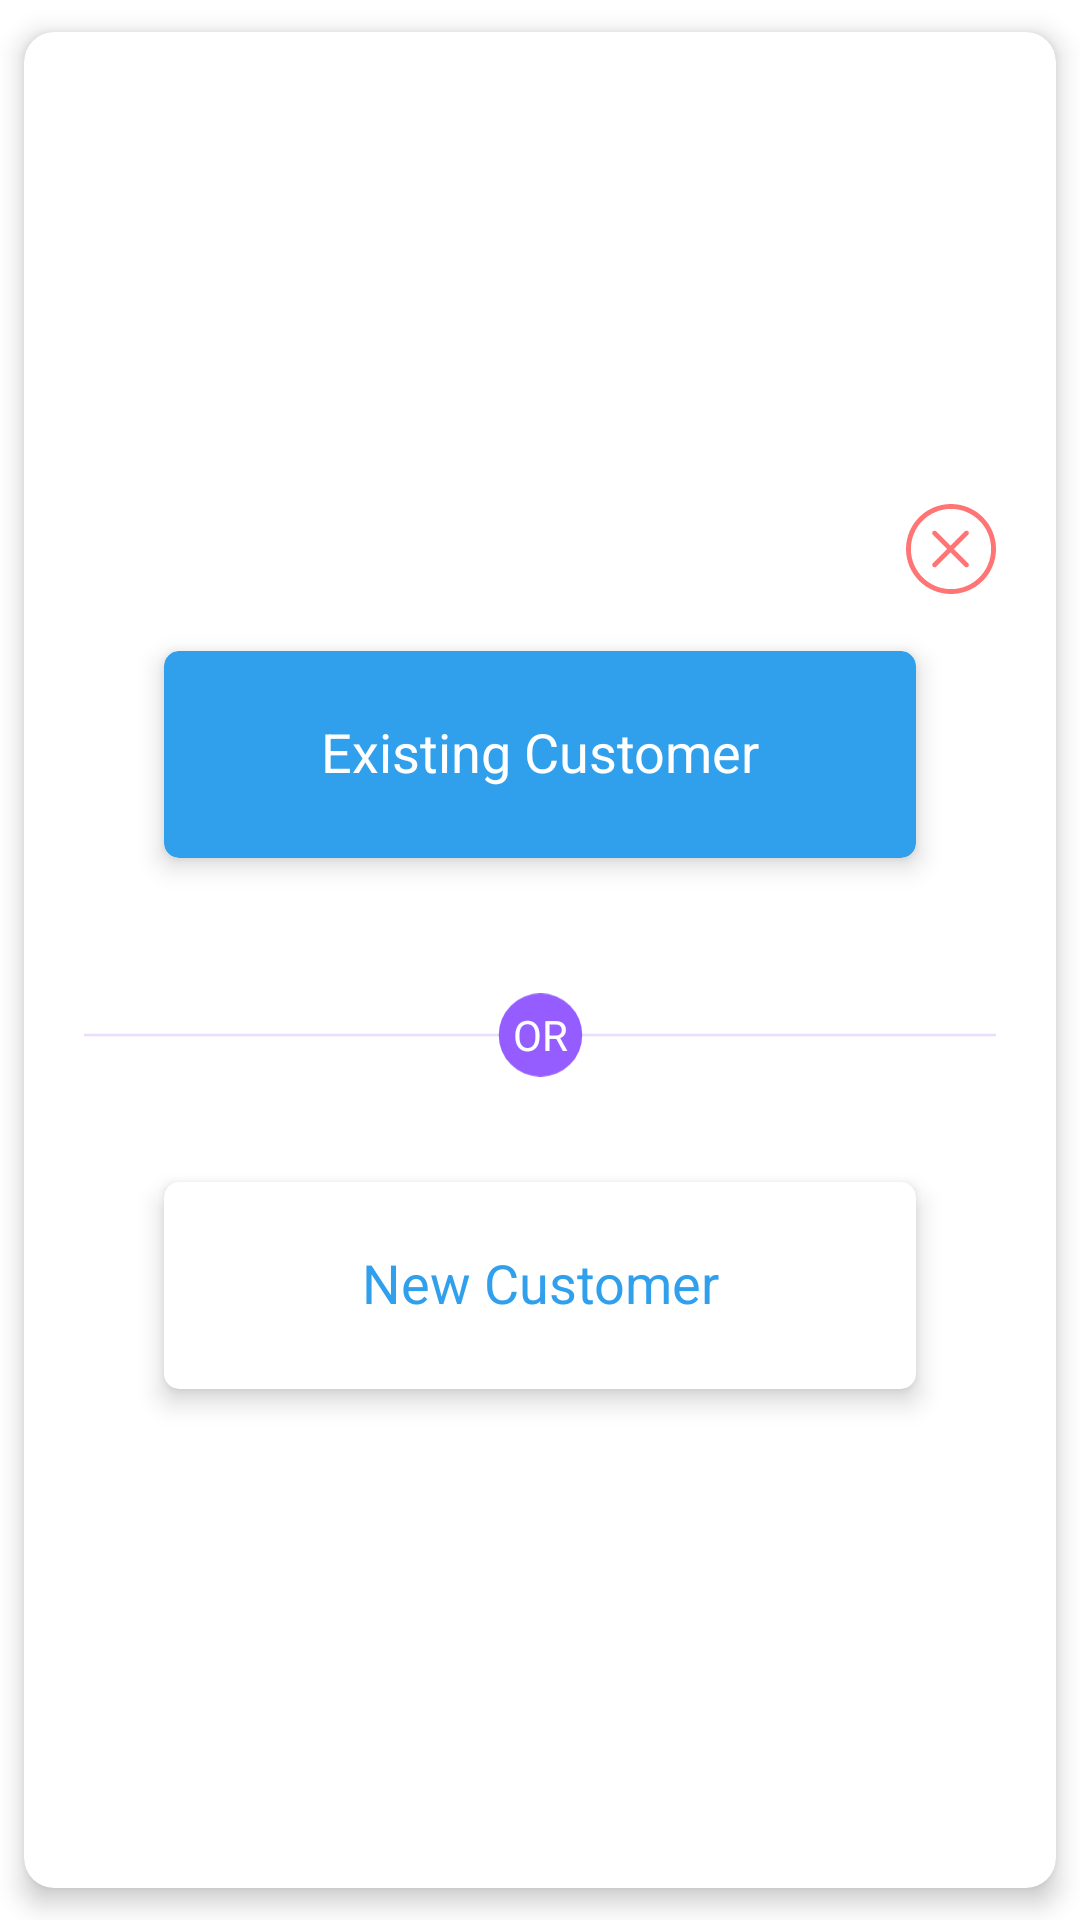

Where icons sit on this 1080x1920 app screen, as [x1=x1, y1=y1, x2=x2, y2=y2]:
close round line: [x1=906, y1=504, x2=996, y2=594]
